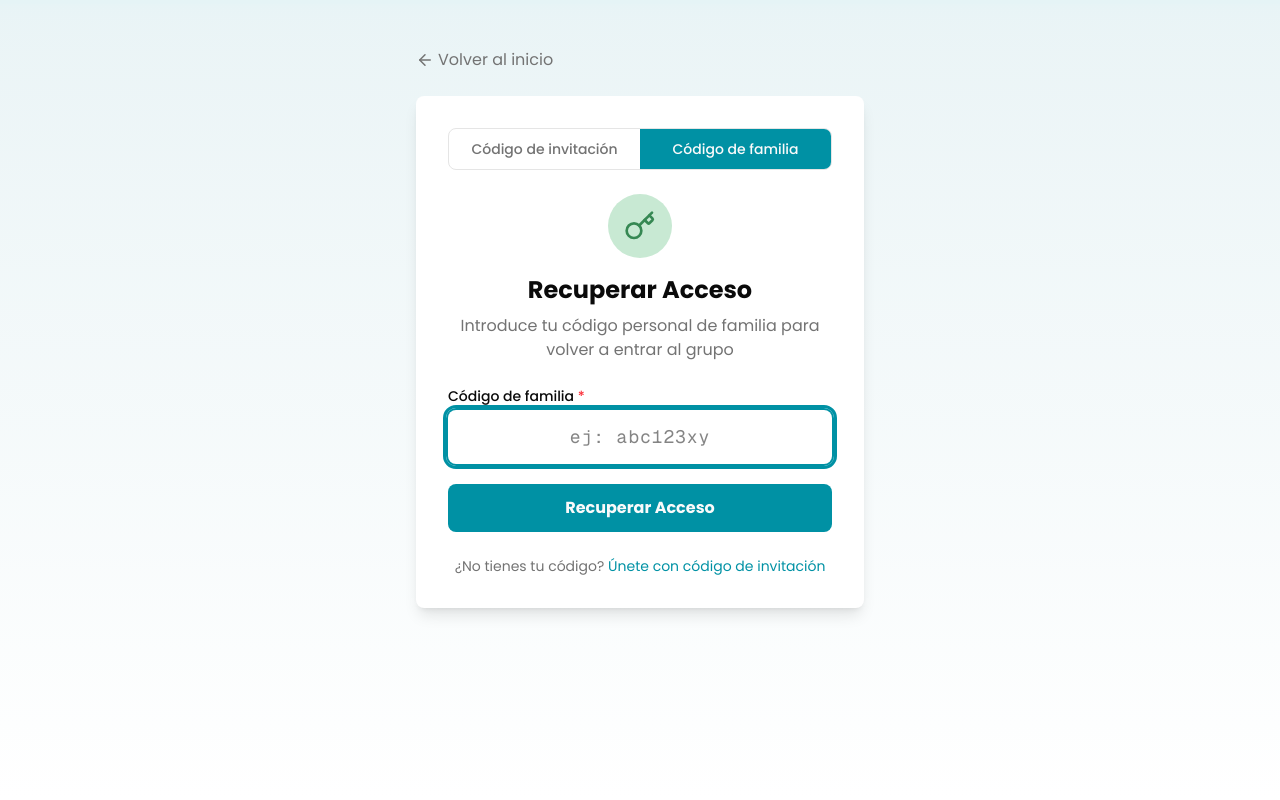
JoinPage — familia tab › shows error when family code contains invalid characters
Type "abc-123!" into the field with placeholder "ej: abc123xy" at {"x": 640, "y": 437}, box left=448, top=410, right=832, bottom=464
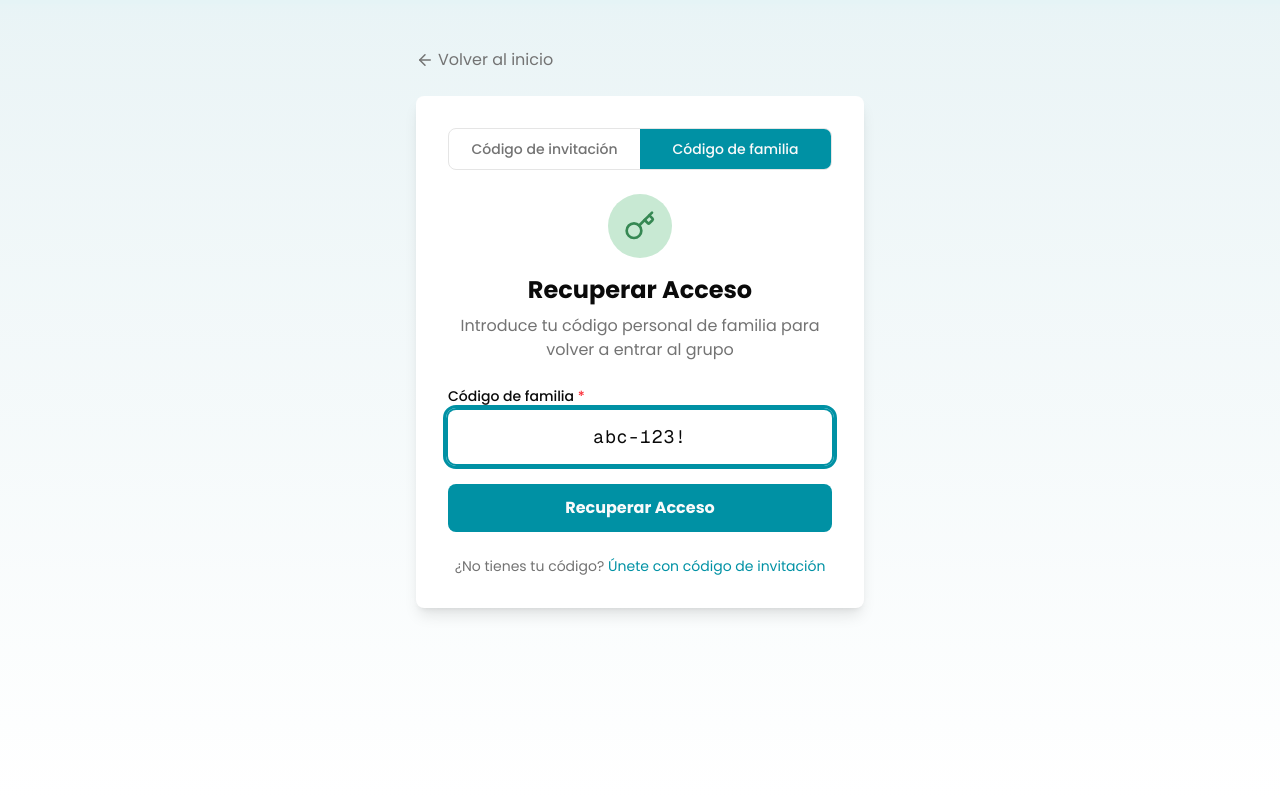
Click the button "Recuperar Acceso" at {"x": 640, "y": 508}, box left=448, top=484, right=832, bottom=532
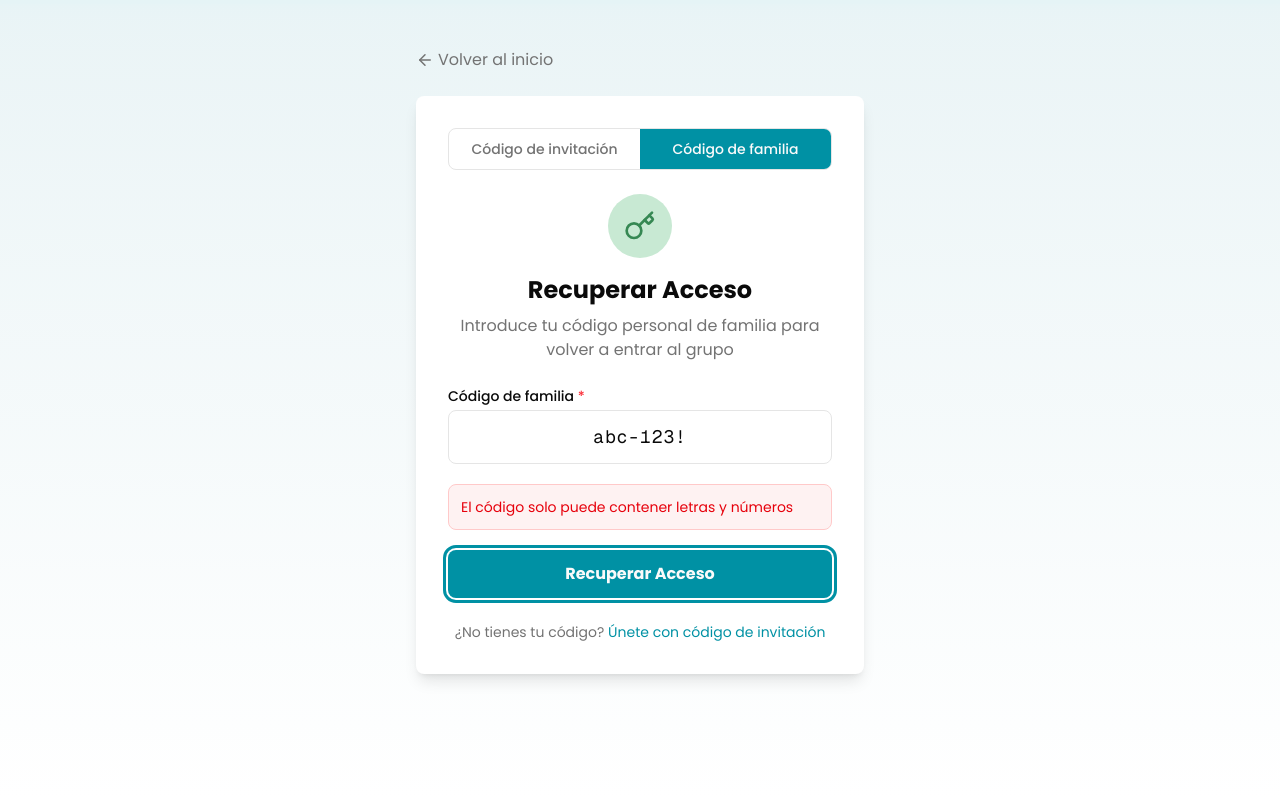
Result: the text "El código solo puede contener letras y números" is shown at left=448, top=484, right=832, bottom=530
